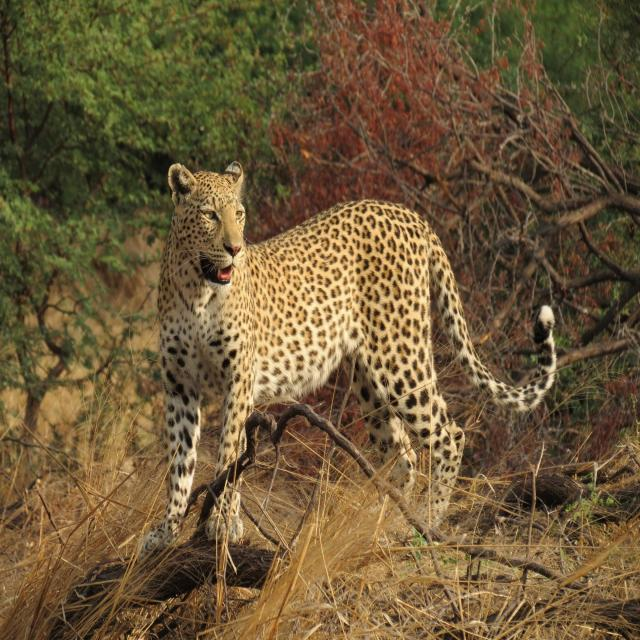Leopard: (152, 138, 580, 554)
